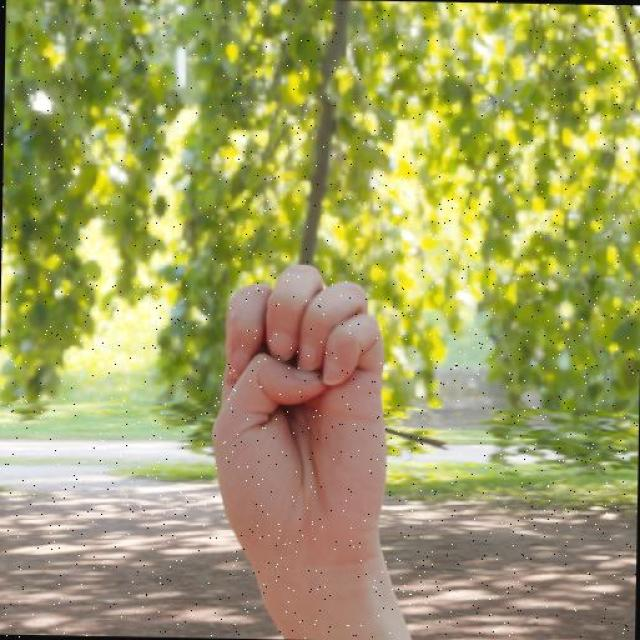E: (207, 259, 394, 560)
